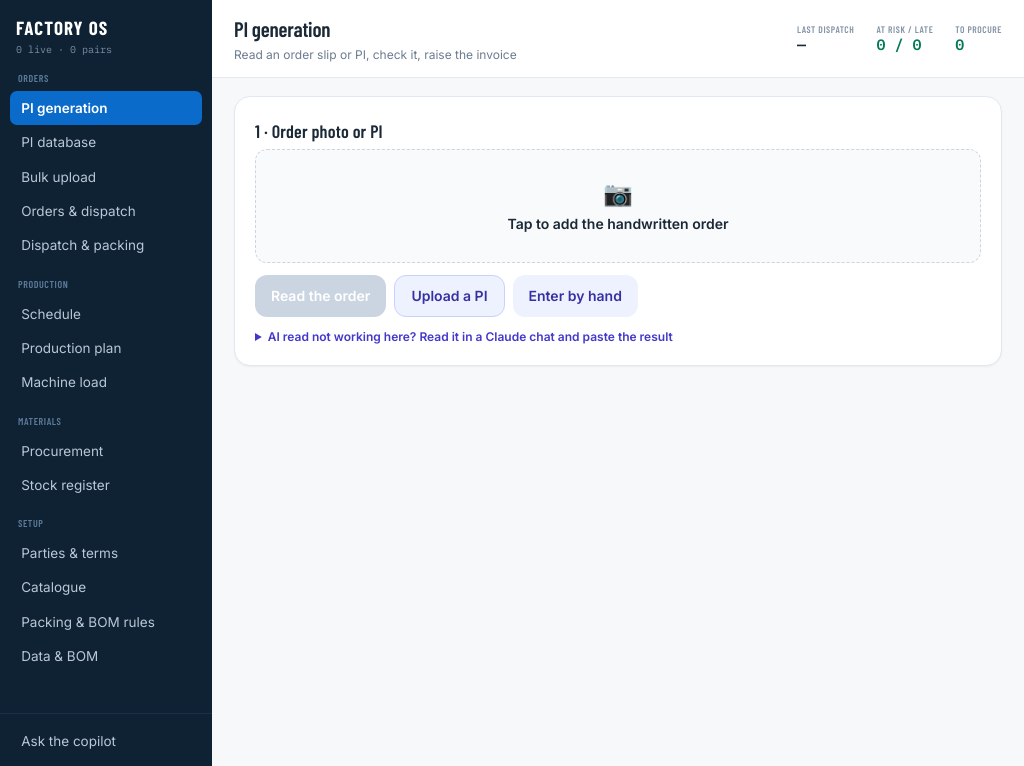
Test: critical UI contracts › uses locked party-master terms on the PI instead of an editable discount
This screenshot has width=1024, height=766.
Click the button "Enter by hand" at point(575, 296), box [512,274,638,316]
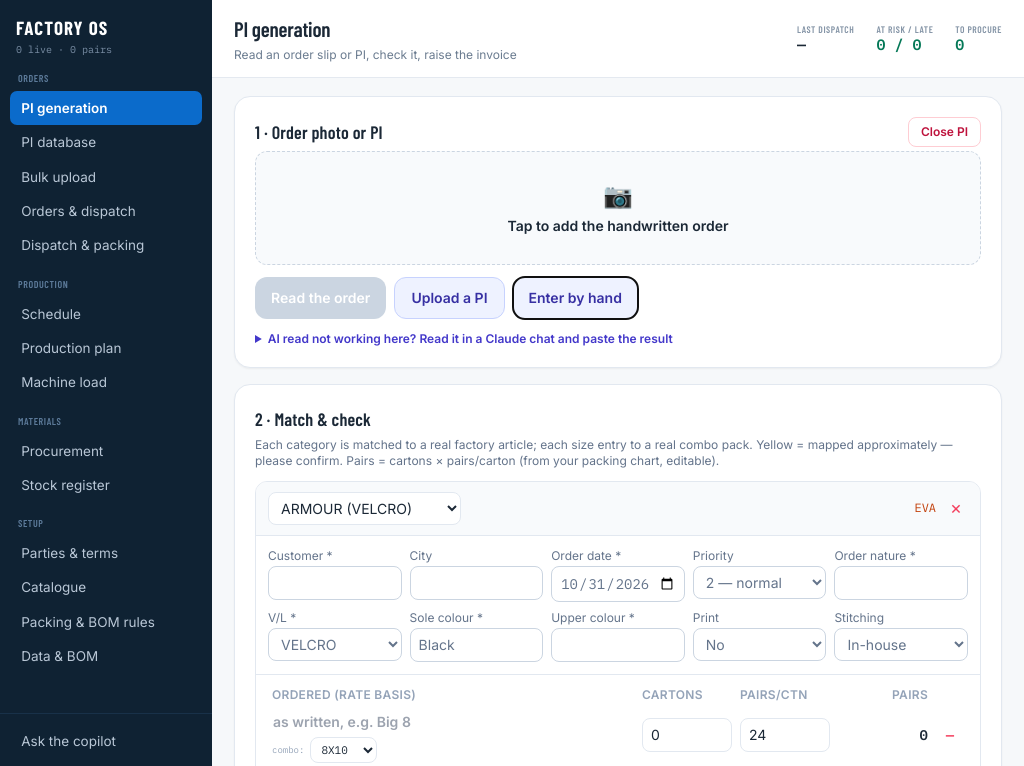
Type "Test Buyer" into the field labelled "Customer *" at point(335, 582), box [268,566,402,600]
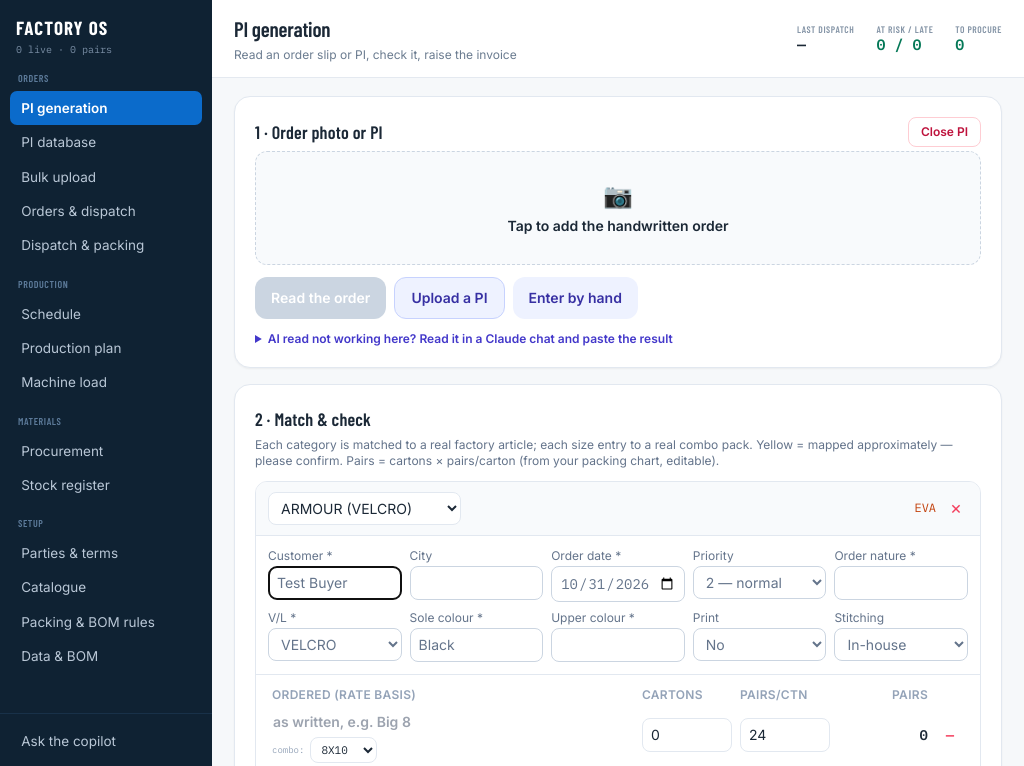
Type "MTO" into the field labelled "Order nature *" at point(901, 582), box [834,566,968,600]
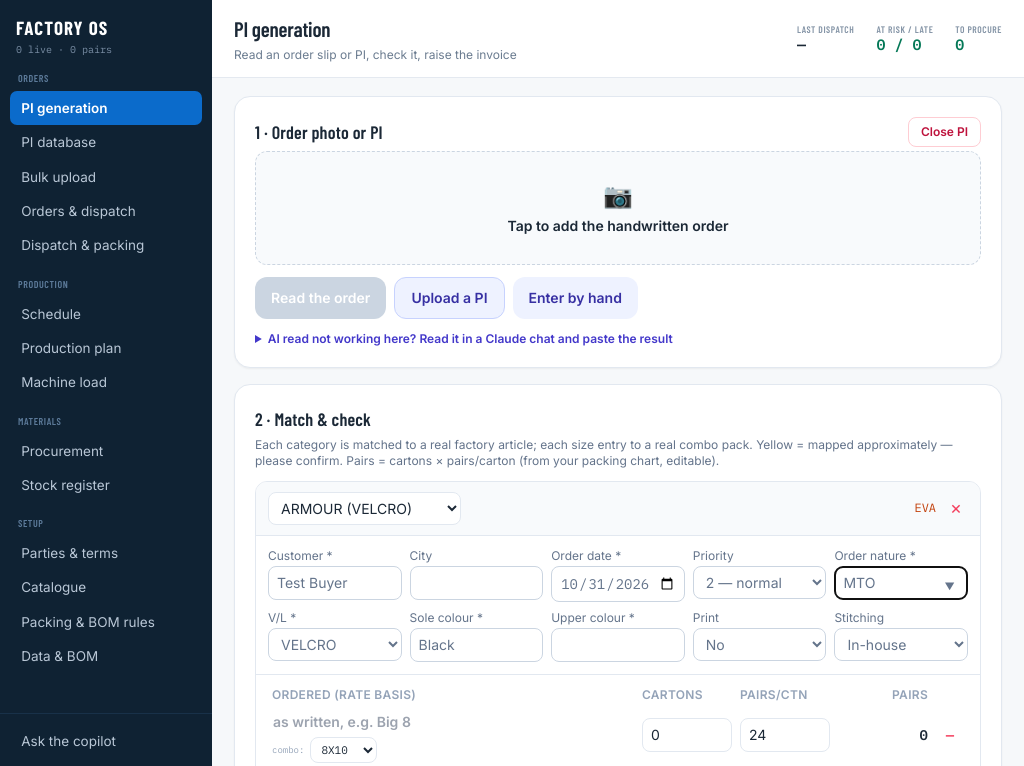
Type "Navy" into the field labelled "Upper colour *" at point(618, 644), box [551,628,685,662]
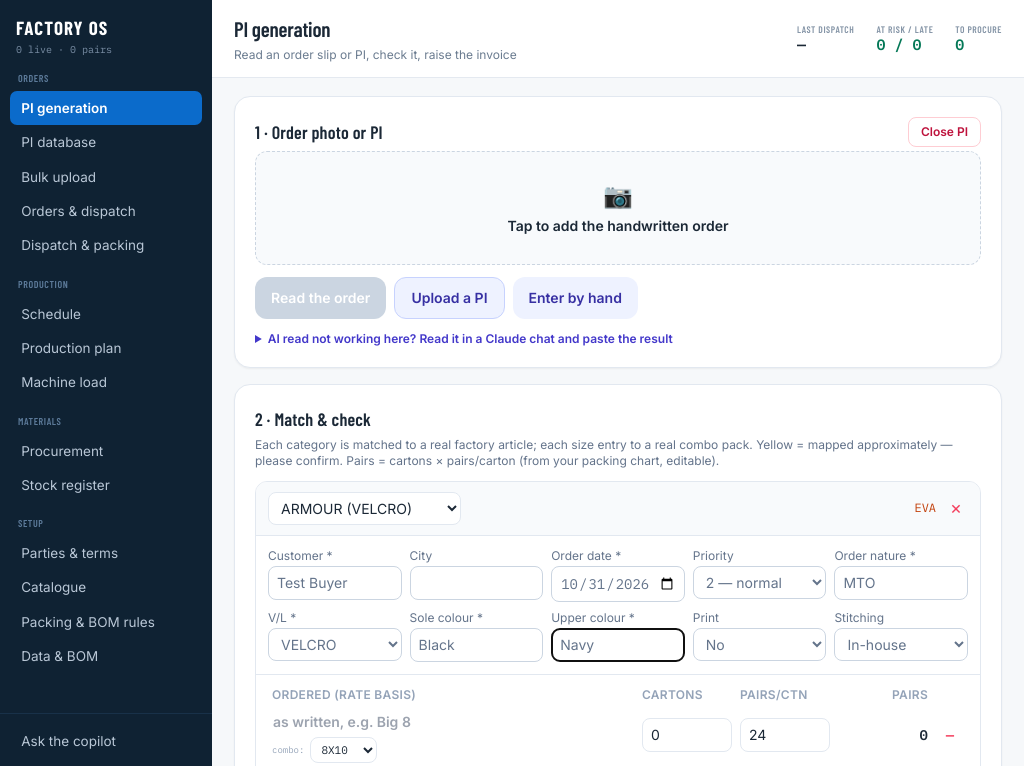
Replace the text in the number field named "cartons" with "1" at point(687, 734), box [642,718,732,752]
(page scrolled)
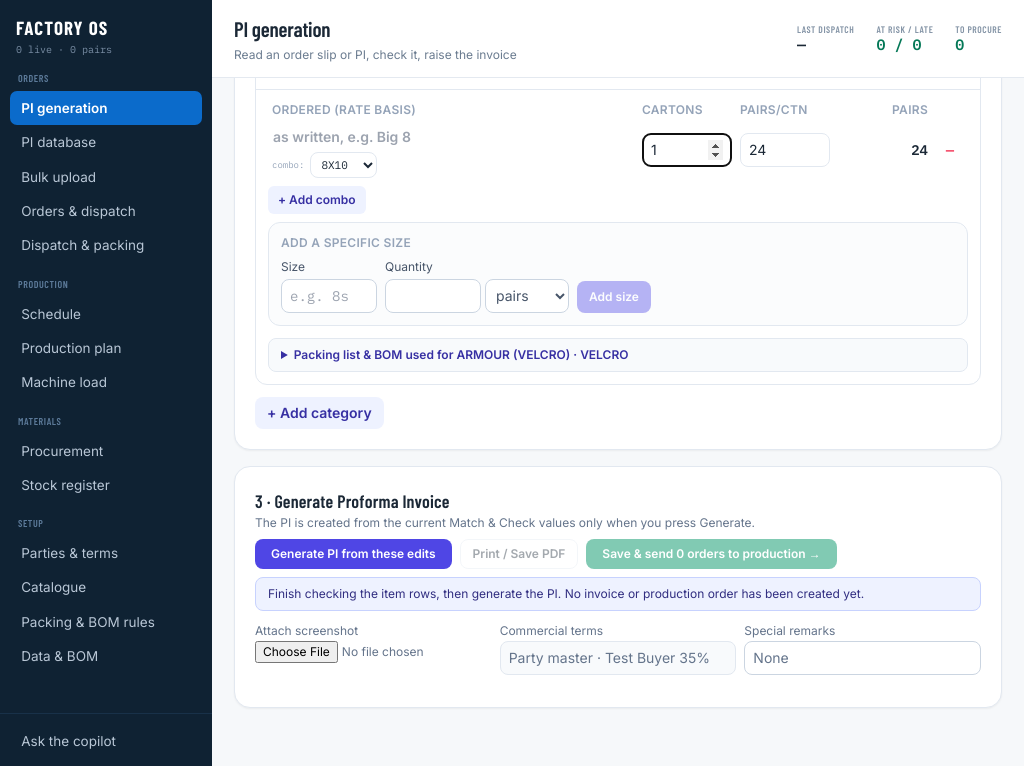
Expected: the text "Party master · Test Buyer 35%" is shown, [500,640,736,674]
Click the button "Generate PI from these edits" at point(353, 554), box [255,538,452,568]
(page scrolled)
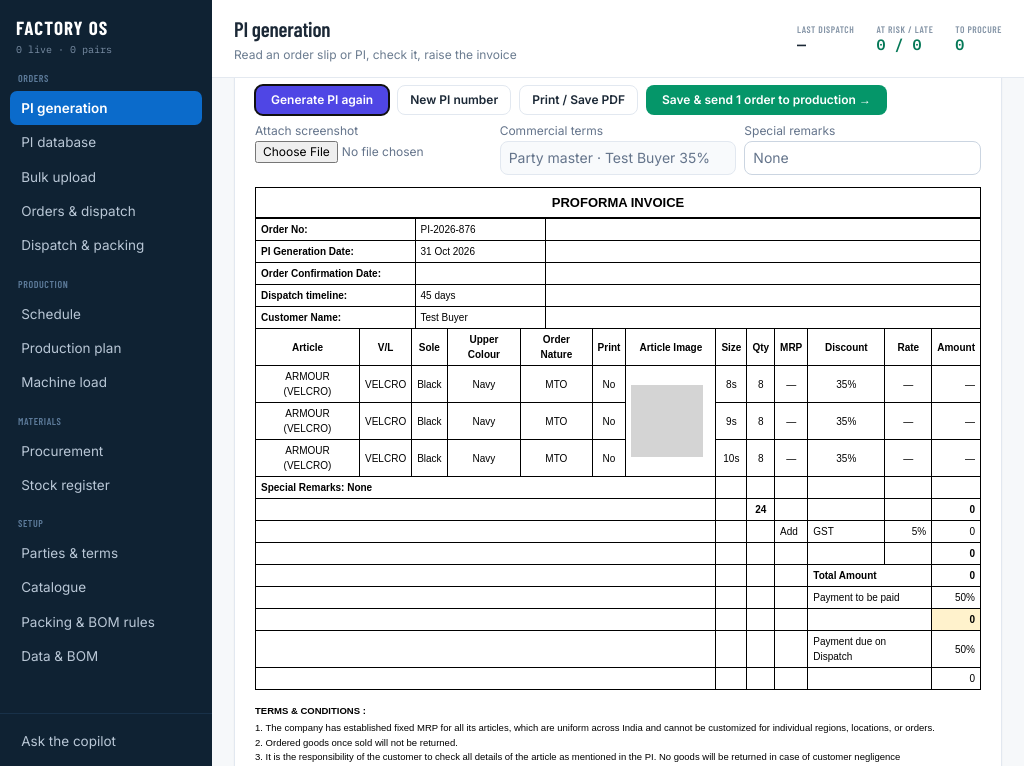
Expected: the text "35%" in the row of "8s" is shown, [808,366,885,402]
